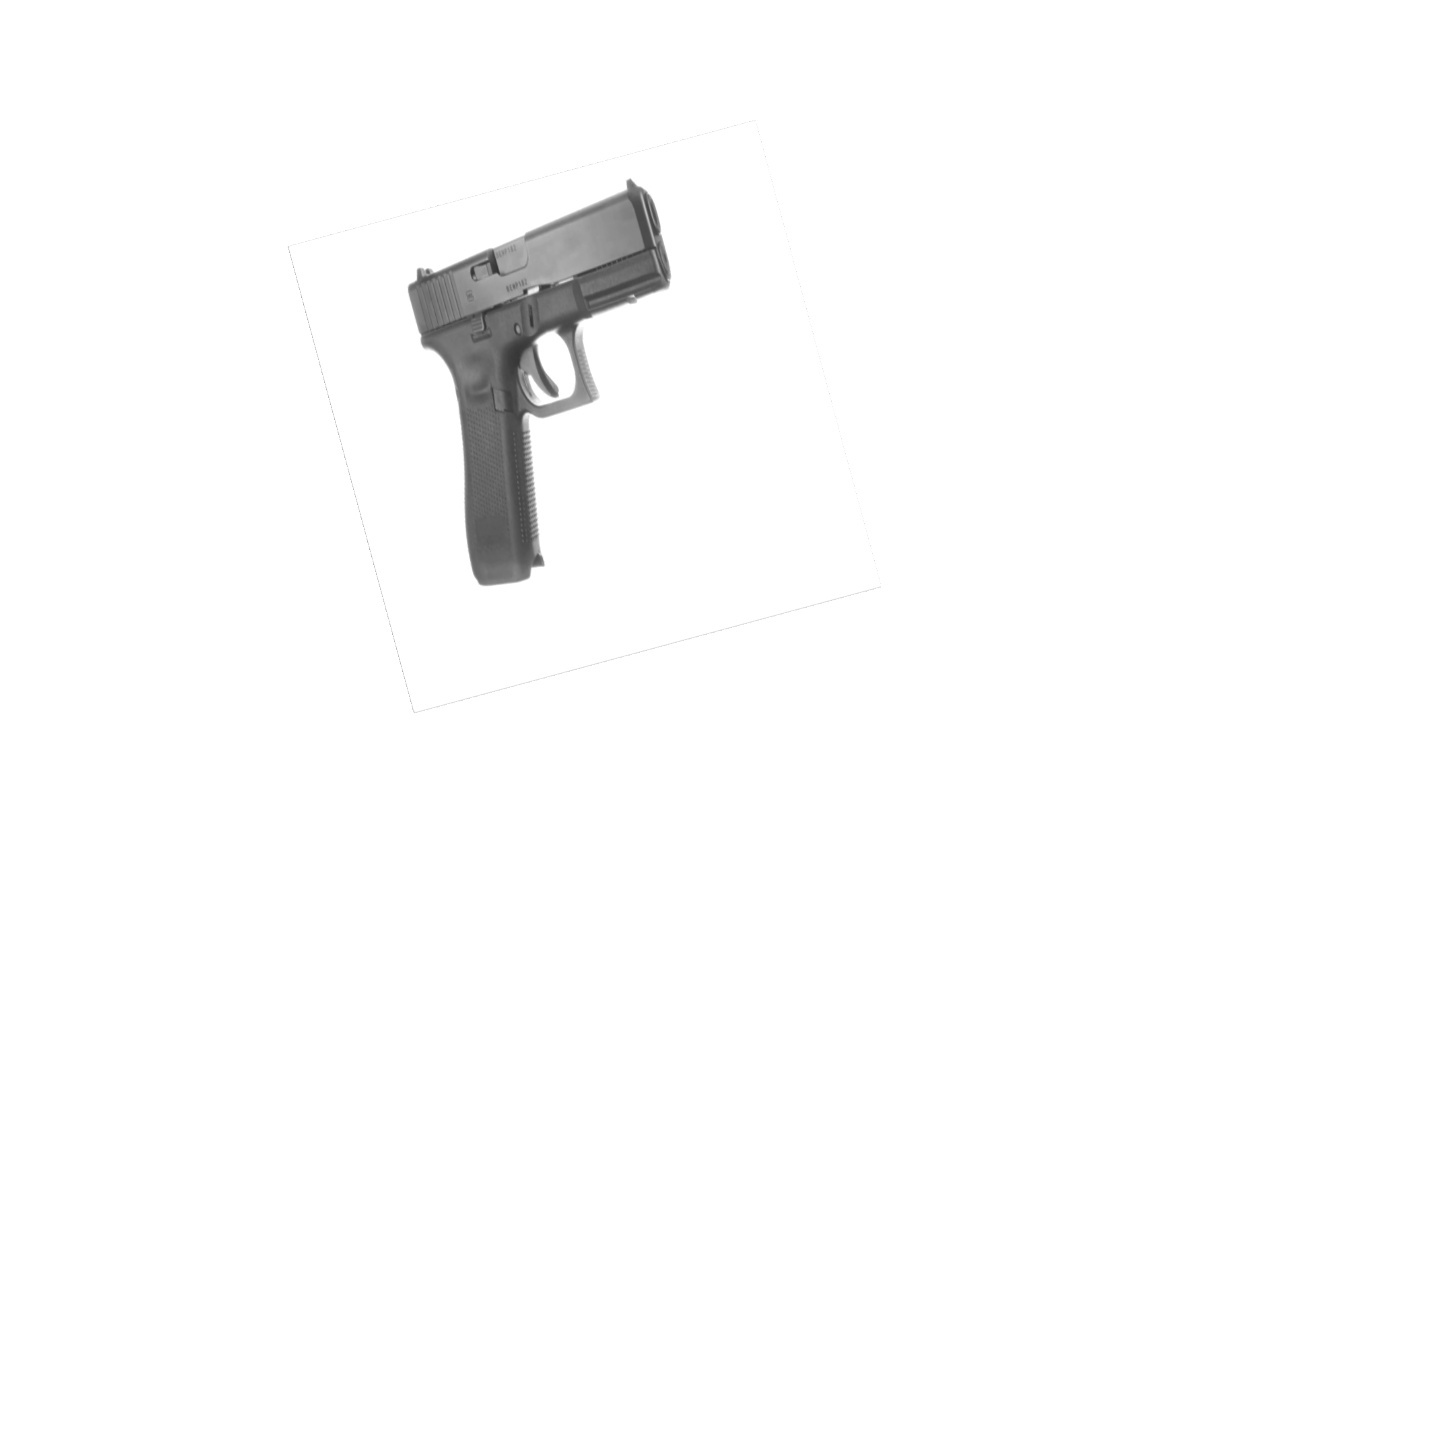gun: (410, 179, 668, 587)
